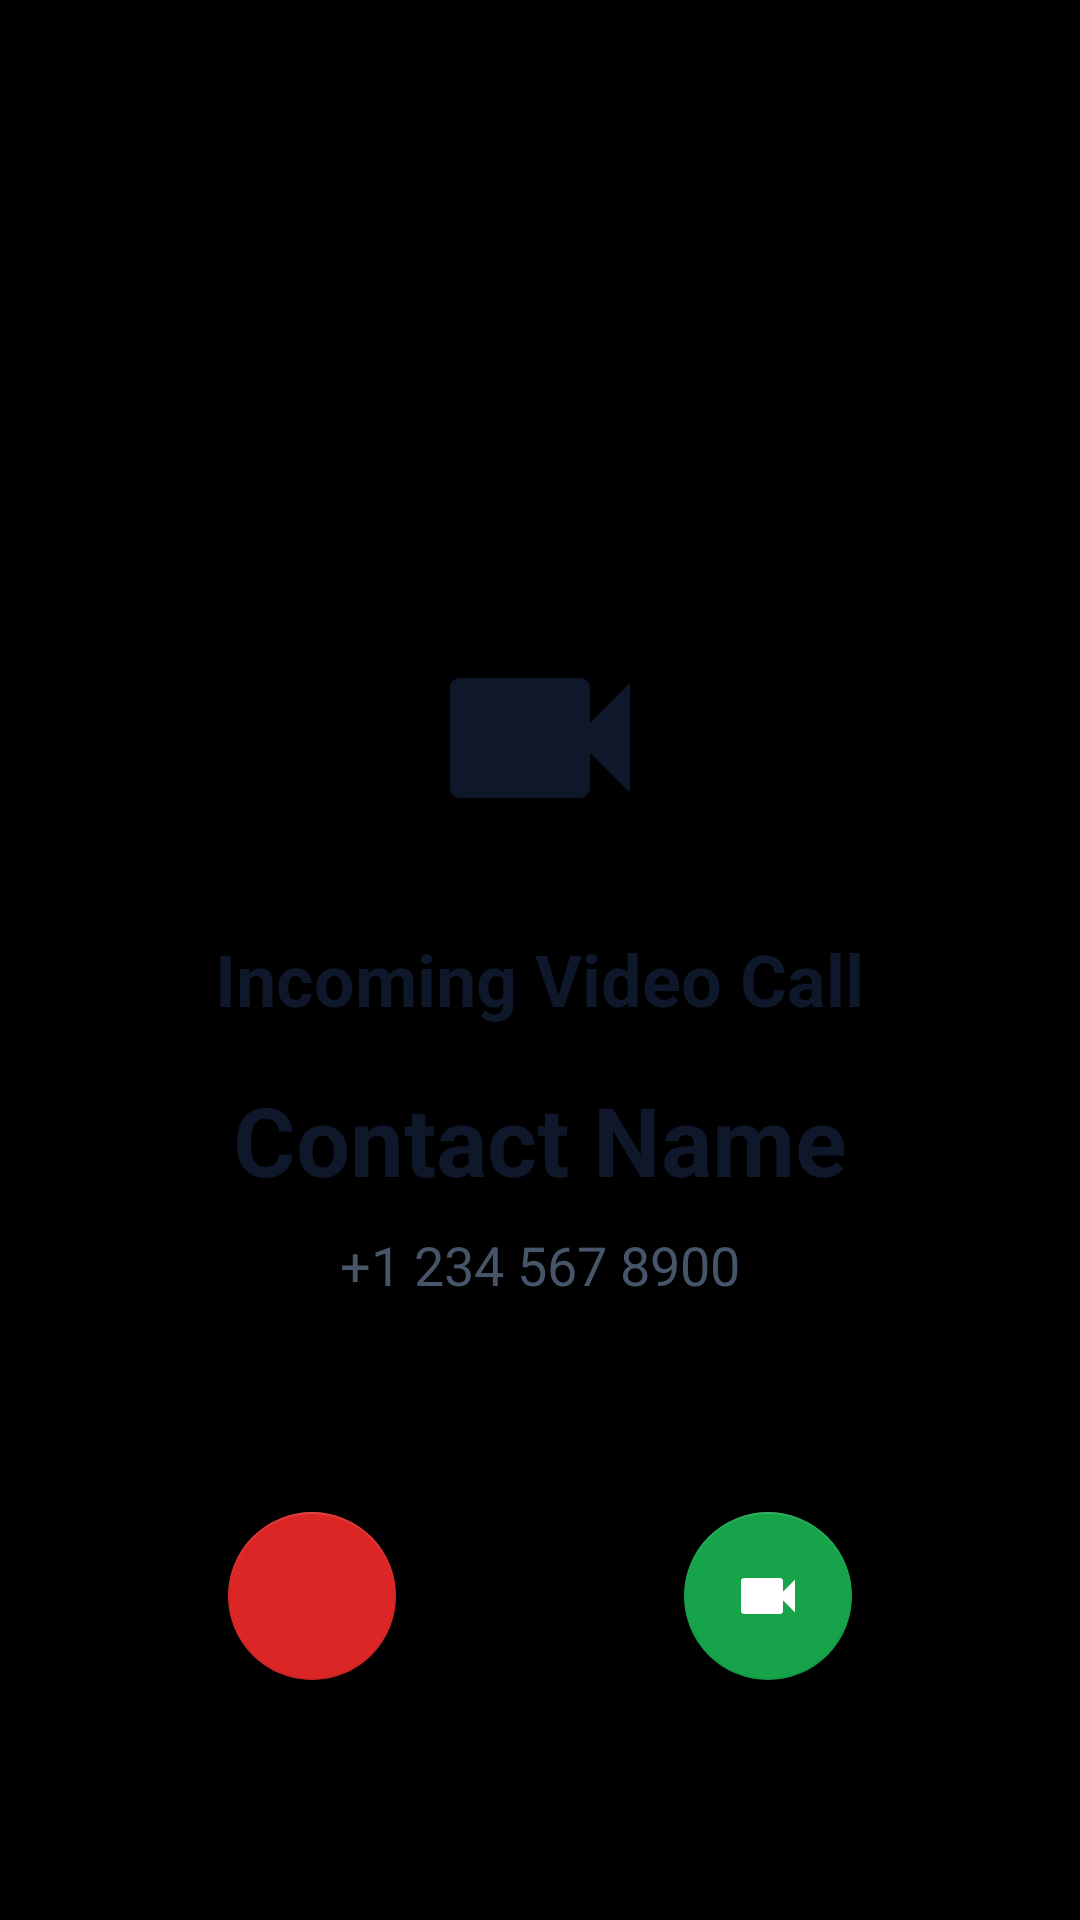

Named icons in this screenshot (1080 × 1920) and their centers, point (x, y):
Accept call: point (768, 1596)
